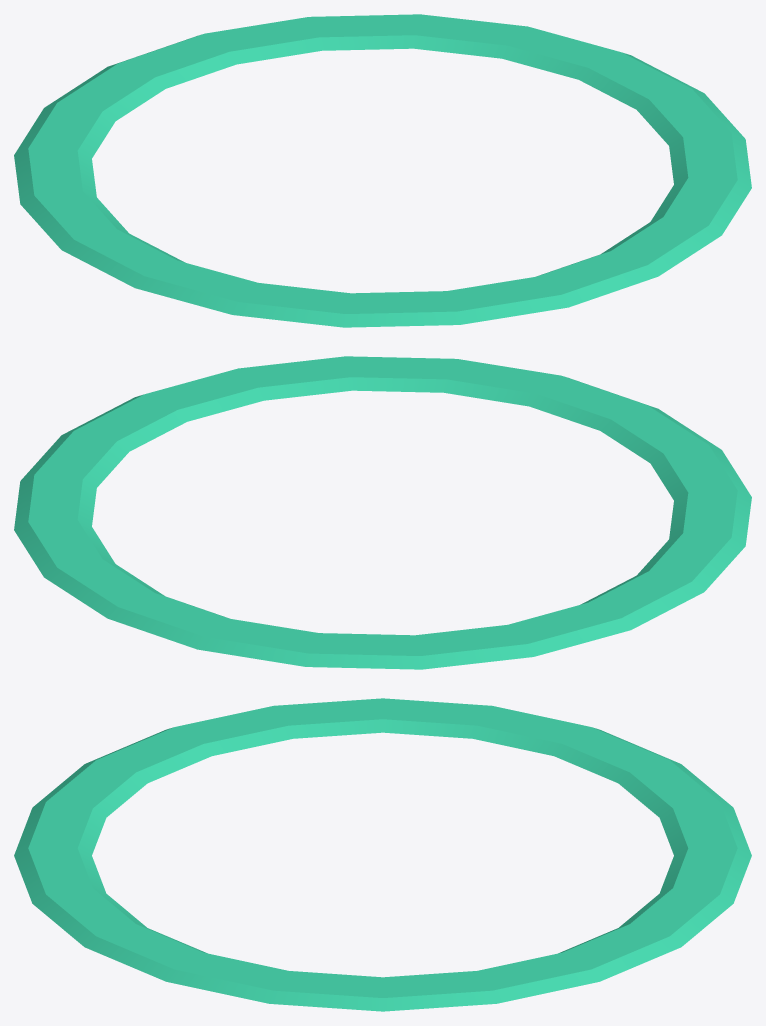
File: PlanetRing.fbx
The picture shows the model from 3 angles, top to bottom: view 1: azimuth 30°, elevation 25°; view 2: azimuth 150°, elevation 25°; view 3: azimuth 270°, elevation 25°; orthographic projection.
Parts seen in each view (by area): view 1: planetRing; view 2: planetRing; view 3: planetRing.
Boxes of the visible parts, <box> form: planetRing: <box>14,14,751,327</box>; planetRing: <box>14,356,751,669</box>; planetRing: <box>14,698,751,1011</box>.
Bounding box in the file's own units: 9.08 × 0.101 × 9.08.
